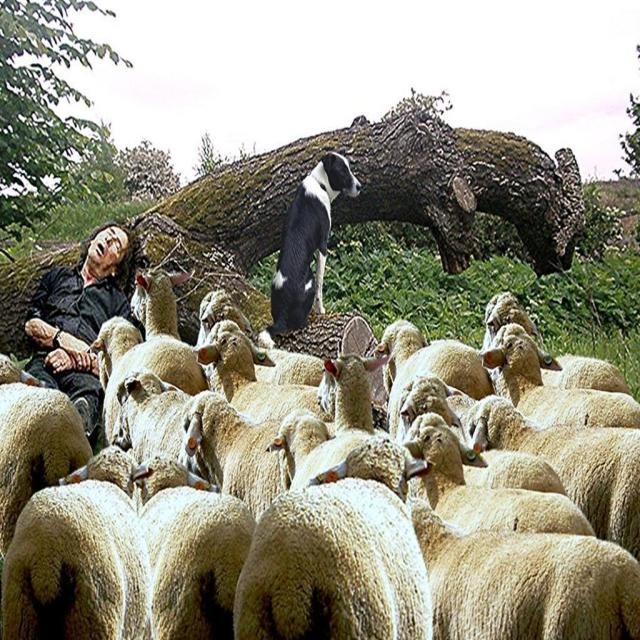Dog: (265, 147, 360, 336)
